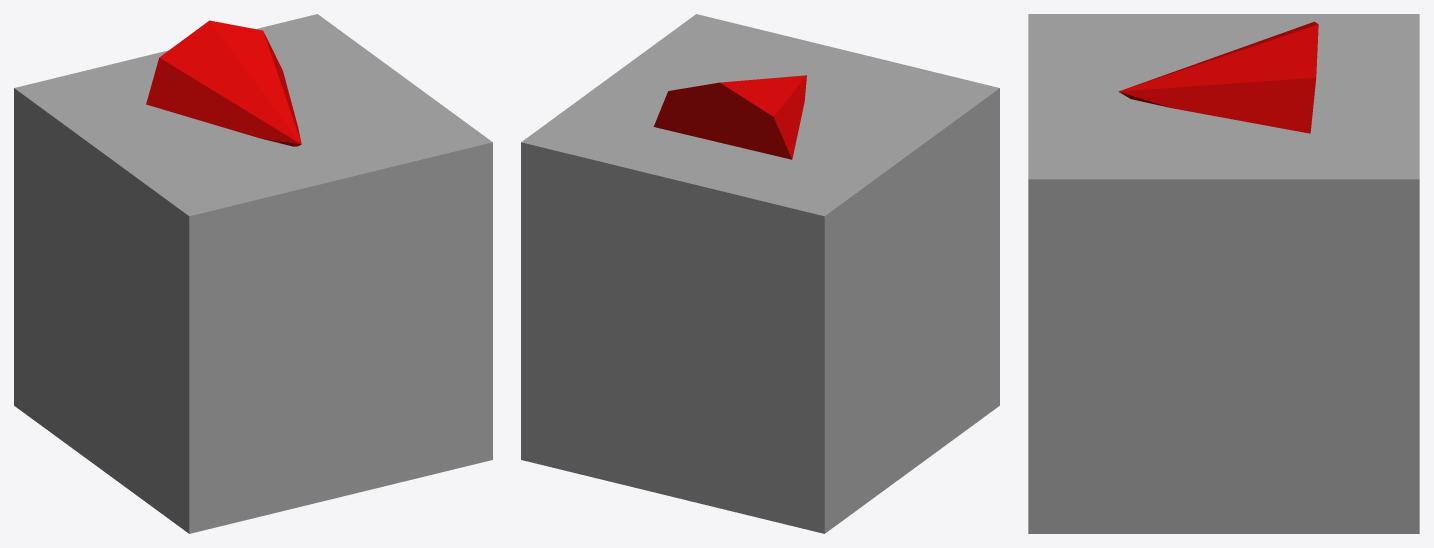
The model's file is Player.fbx.
3 views of the same model, side by side, from view 1: azimuth 30°, elevation 25°; view 2: azimuth 150°, elevation 25°; view 3: azimuth 270°, elevation 25° (orthographic). The views are drawn at different scales.
Parts seen in each view (by area): view 1: pCone2; view 2: pCone2; view 3: pCone2.
Part boxes in pixels (bbox=[...]): pCone2: bbox=[14, 14, 492, 533]; pCone2: bbox=[521, 14, 999, 533]; pCone2: bbox=[1028, 14, 1419, 533].
Size of the model in its own units: 1 by 1.2 by 1.
